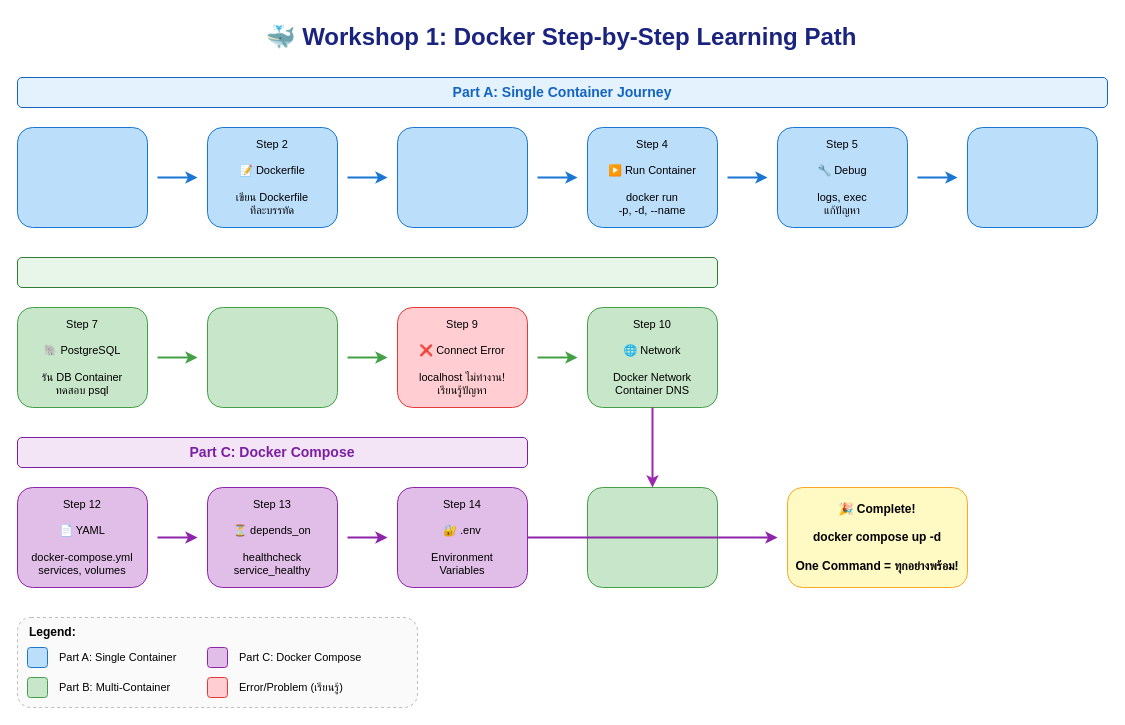
This 1125x725 diagram has some shape labels left out. The centre of each missing label's shape, as x and y in pixels:
"Part B: Multi-Container Journey" goes at [367,272].
"Step 1 📦 Node.js App สร้าง app บนเครื่อง (ไม่มี Docker)" goes at [82,177].
"Step 11 💾 Volume Named Volume Persistent Data" goes at [652,537].
"Step 3 🔨 Build Image docker build Layer Caching" goes at [462,177].
"Step 6 📂 Bind Mount Live Reload Development" goes at [1032,177].
"Step 8 🔄 Update App เพิ่ม pg driver server.js v2" goes at [272,357].
